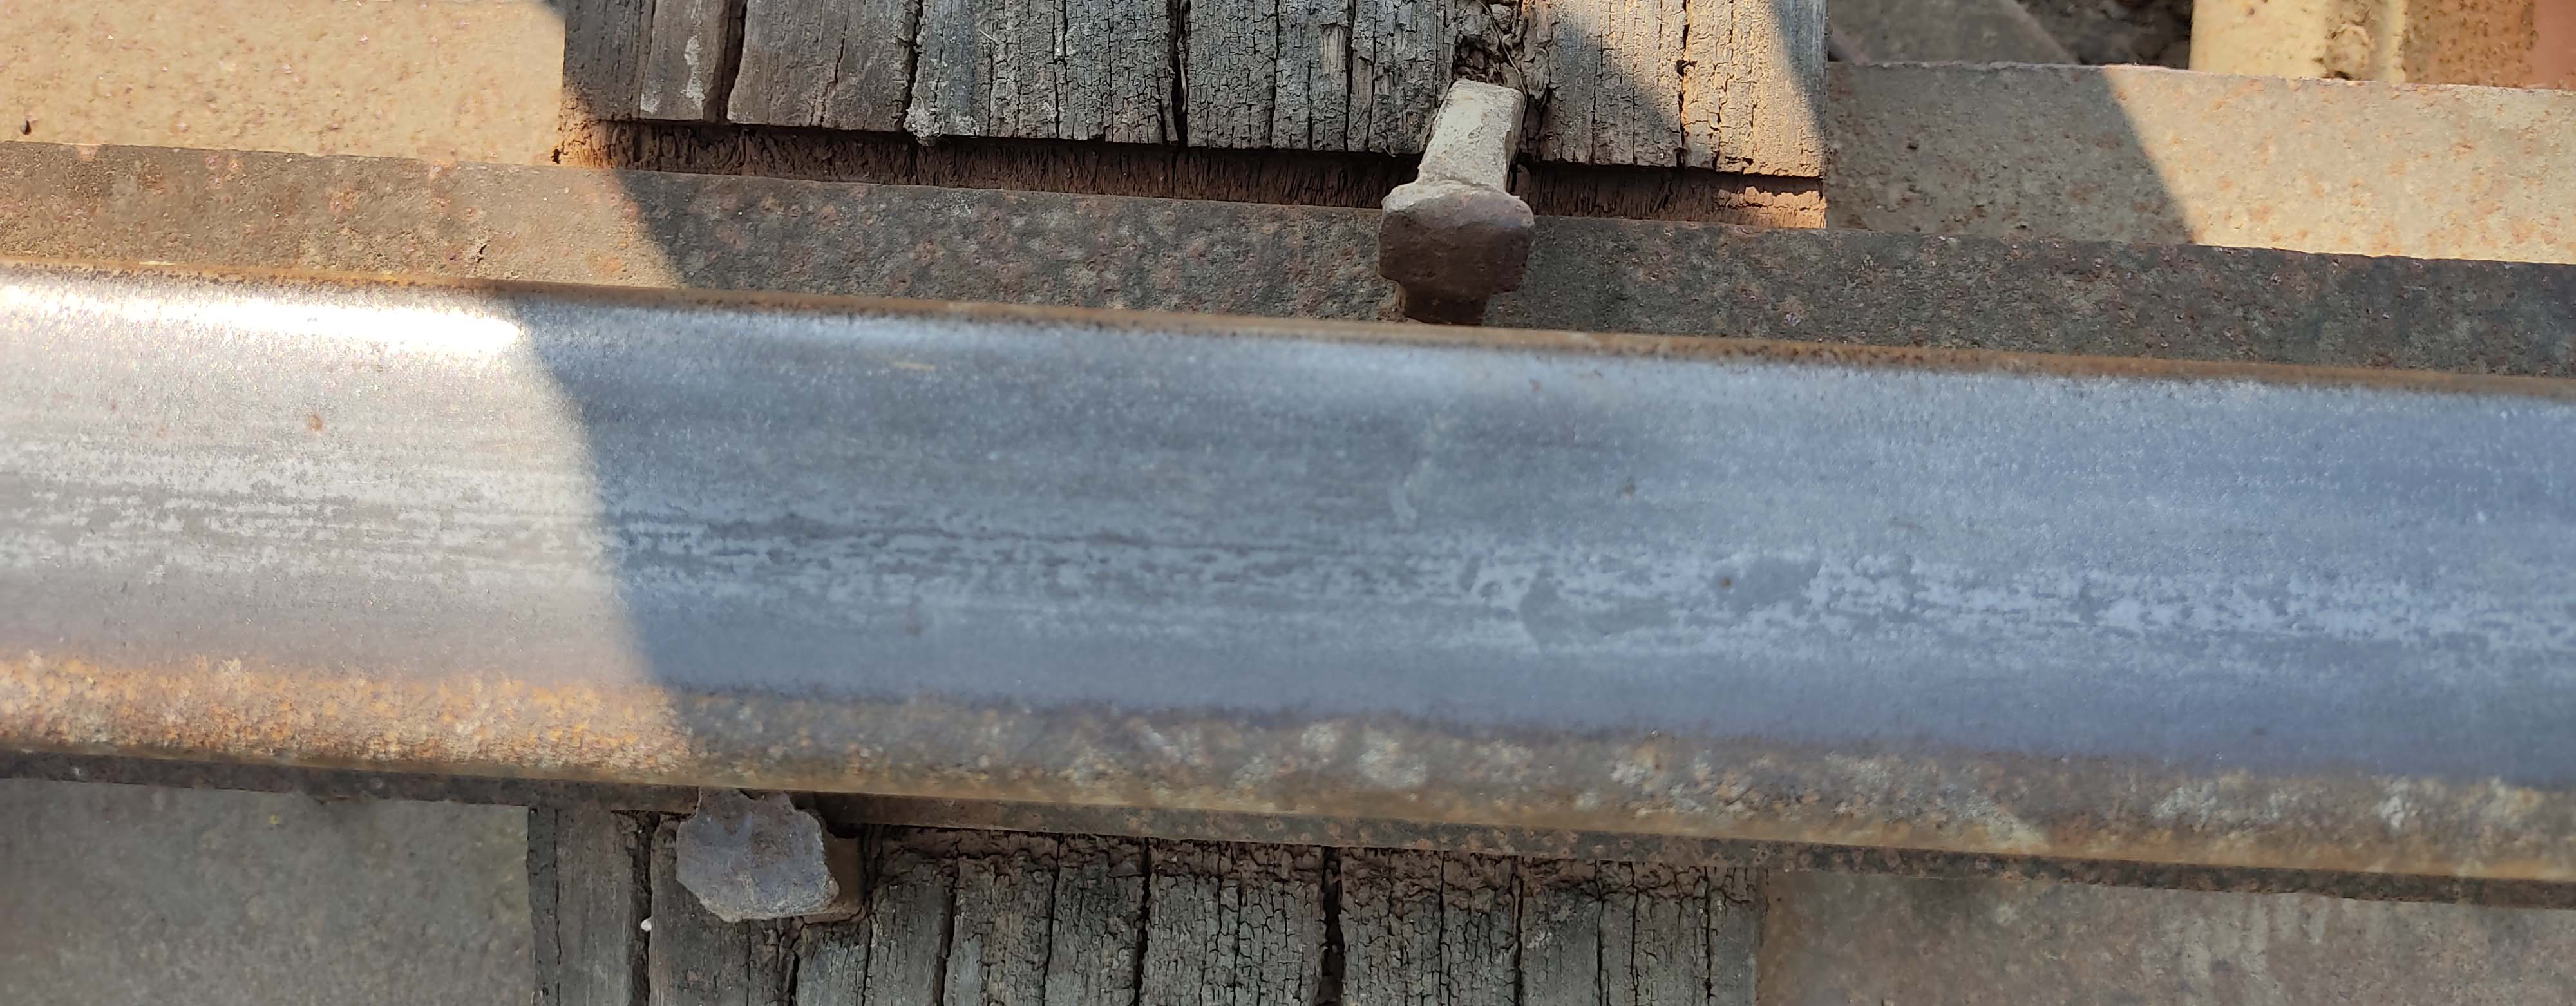error1: (1359, 44, 1580, 355), (660, 728, 907, 985)
